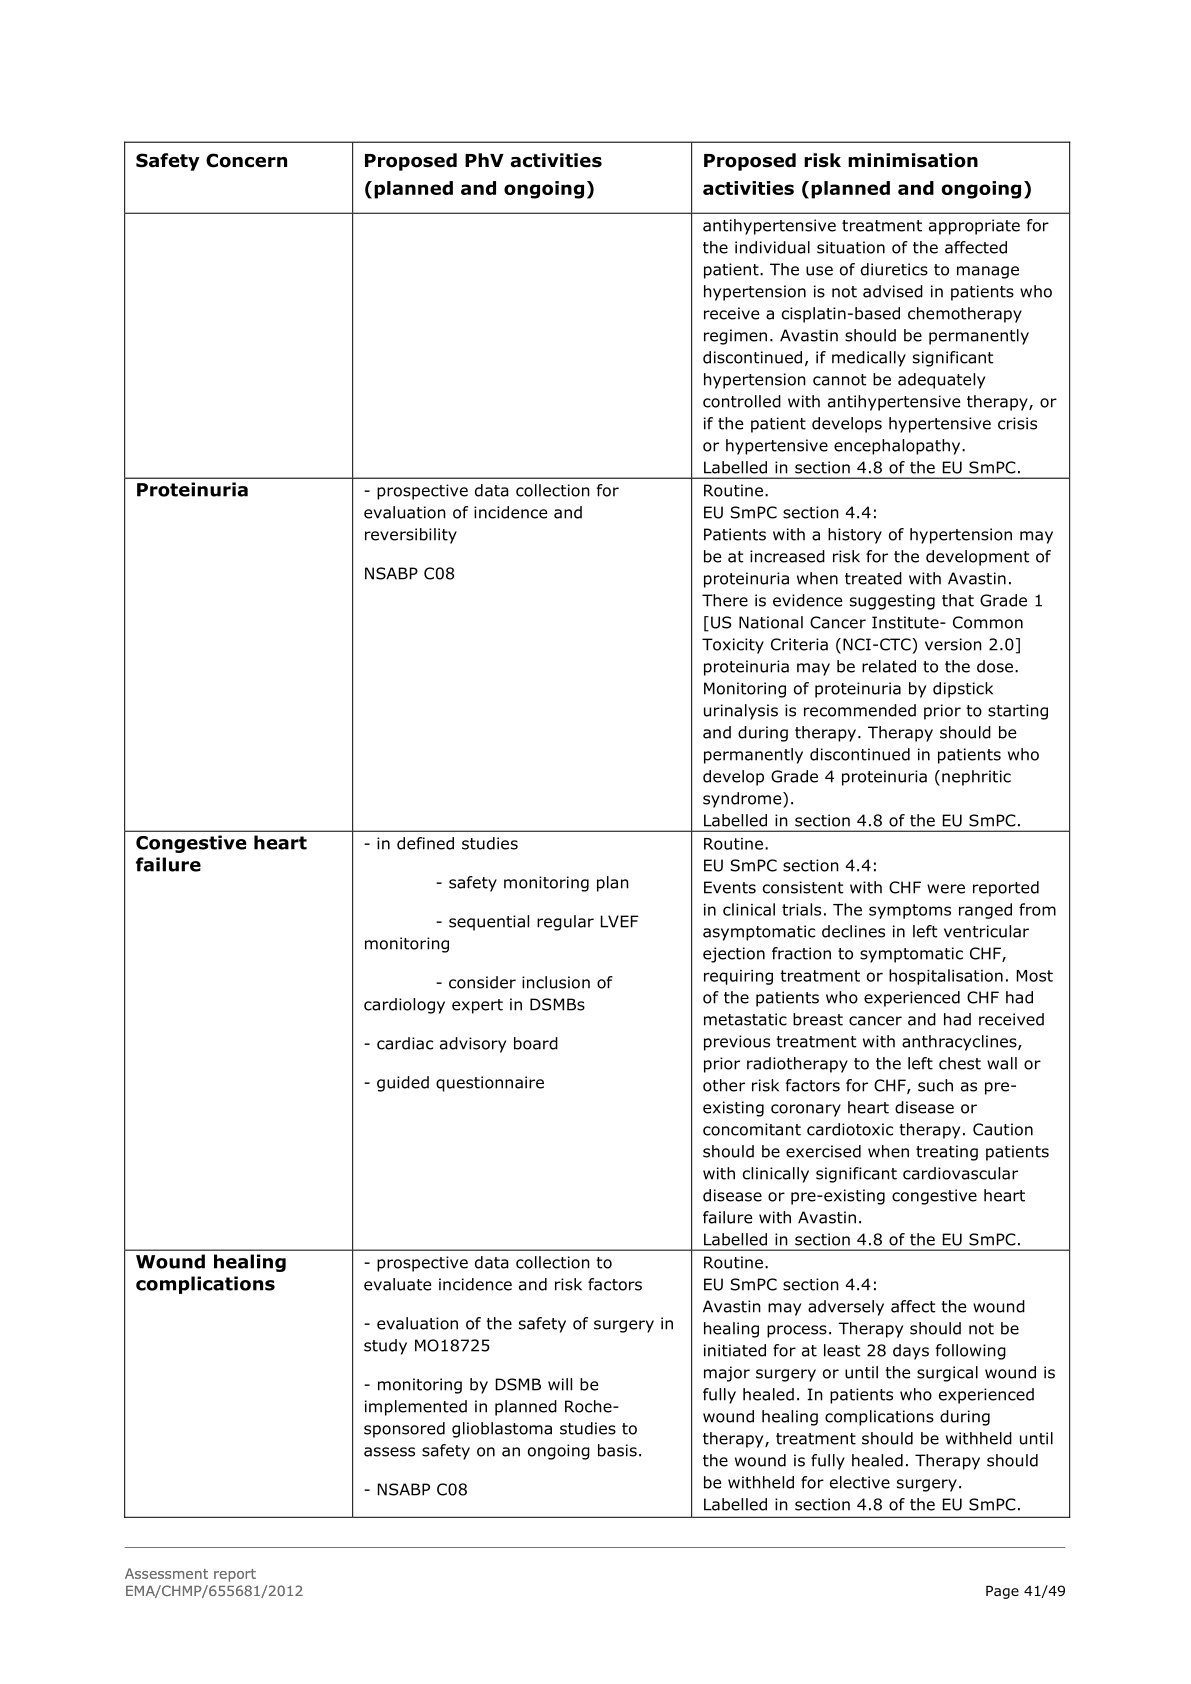full_lined: (122, 140, 1071, 1520)
